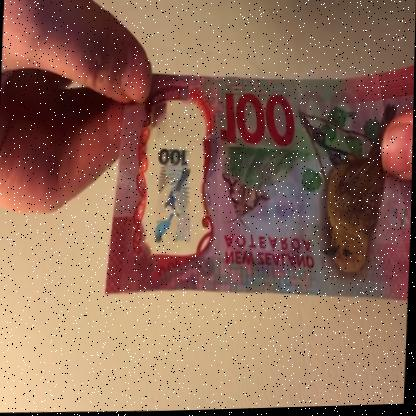100B: (148, 120, 201, 254)
